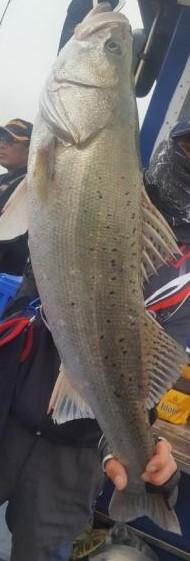fish: (0, 5, 186, 527)
